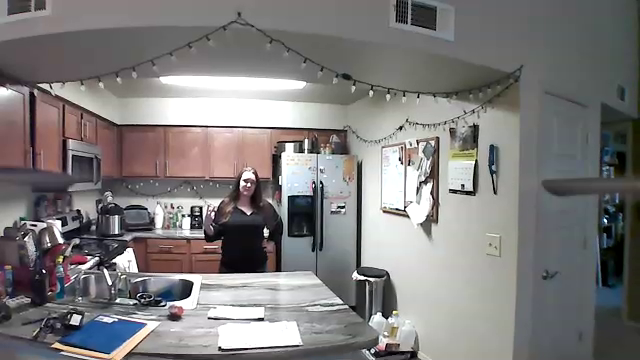peace: (202, 201, 221, 230)
